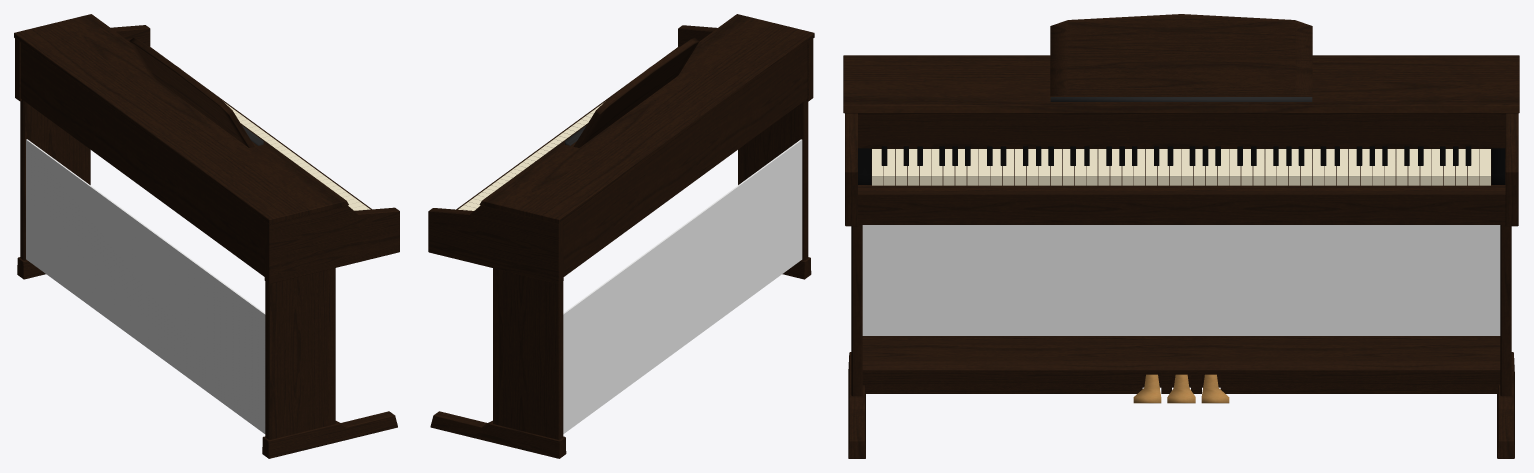
Rendered from piano.glb.
The picture shows the model from 3 angles, left to right: view 1: azimuth 30°, elevation 25°; view 2: azimuth 150°, elevation 25°; view 3: azimuth 270°, elevation 25°; orthographic projection. The views are drawn at different scales.
Parts seen in each view (by area): view 1: Cube.006, piano, Plane, Cube.004, Cube, Cube.003, score_stand, white_keys, Cube.002; view 2: Cube.006, piano, Plane, Cube.003, Cube.002, Cube.004, score_stand, white_keys, Cube; view 3: Cube.006, Plane, Cube.005, piano, score_stand, white_keys, black_keys, Cube.003, Cube.004, Cube.002, Cube, sheet_holder_piece.
Boxes of the visible parts, x1,y1,x2,y2 form: Cube.006: (26, 139, 265, 433); piano: (14, 14, 348, 224); Plane: (20, 43, 371, 276); Cube.004: (262, 268, 397, 458); Cube: (264, 205, 399, 283); Cube.003: (17, 99, 90, 279); score_stand: (129, 38, 254, 147); white_keys: (224, 102, 370, 210); Cube.002: (15, 25, 150, 101); Cube.006: (563, 139, 802, 433); piano: (479, 14, 814, 224); Plane: (456, 43, 807, 276); Cube.003: (430, 268, 566, 458); Cube.002: (428, 205, 563, 283); Cube.004: (738, 100, 811, 279); score_stand: (573, 38, 699, 147); white_keys: (458, 101, 605, 210); Cube: (678, 25, 813, 101); Cube.006: (862, 225, 1500, 335); Plane: (858, 113, 1505, 224); Cube.005: (862, 336, 1500, 393); piano: (843, 55, 1519, 113); score_stand: (1050, 14, 1312, 96); white_keys: (872, 149, 1490, 185); black_keys: (881, 146, 1471, 166); Cube.003: (1497, 225, 1514, 458); Cube.004: (848, 225, 865, 458); Cube.002: (1505, 113, 1518, 226); Cube: (845, 113, 857, 226); sheet_holder_piece: (1050, 97, 1312, 101).
Bounding box in the file's own units: 0.3596 × 0.7586 × 1.21.
Materials: 7 (2 with a texture image).
